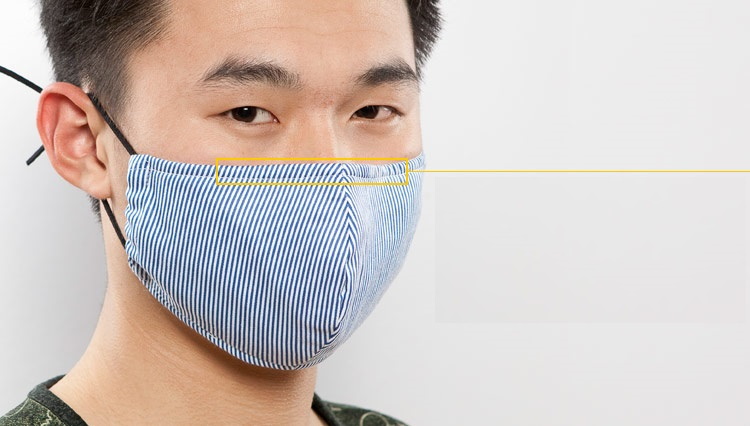face_mask: (118, 1, 422, 374)
